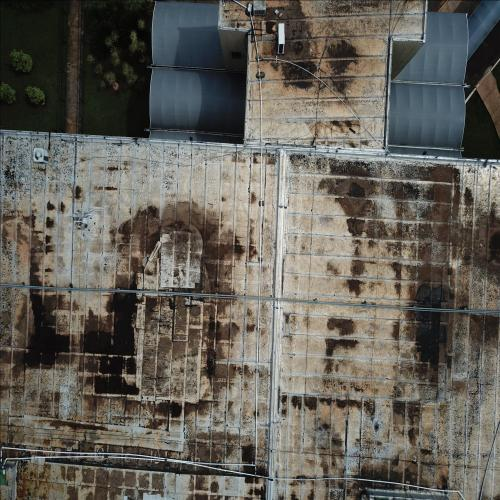conde: (31, 144, 52, 169), (277, 22, 287, 58), (253, 1, 270, 20)
